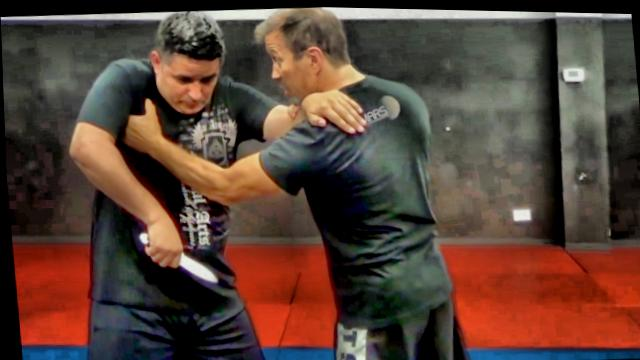knife: (134, 224, 219, 290)
